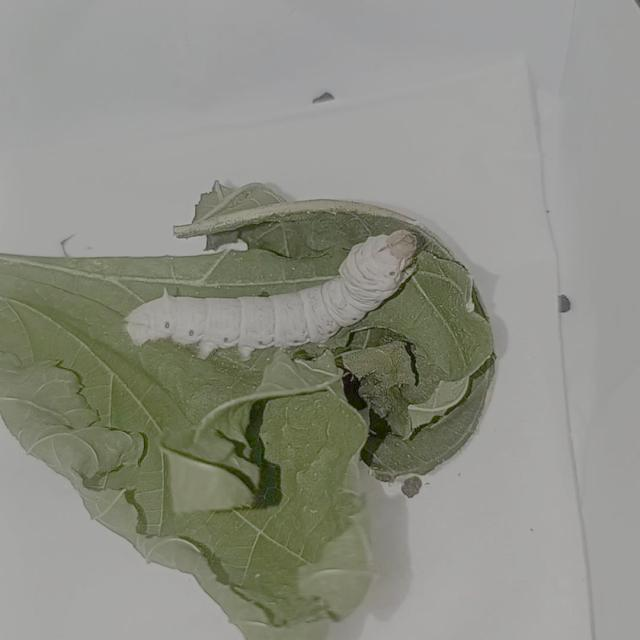Healthy: (121, 225, 424, 364)
